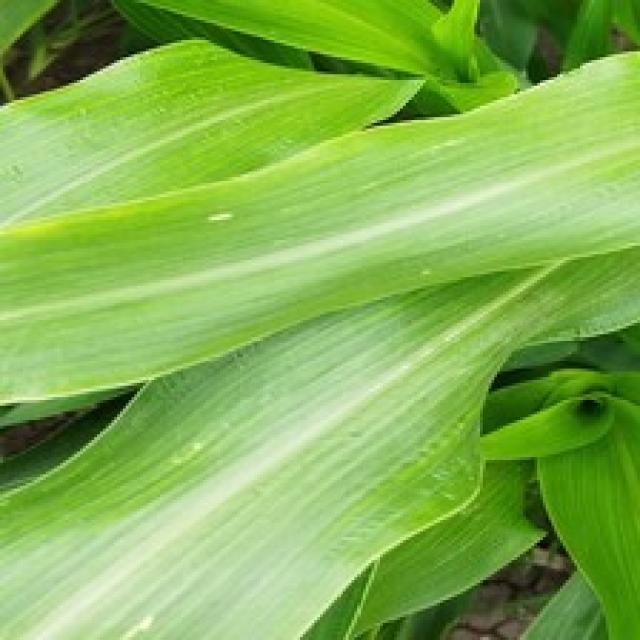Corn: (0, 0, 637, 637), (0, 37, 426, 246), (88, 0, 522, 111), (477, 360, 637, 637)
